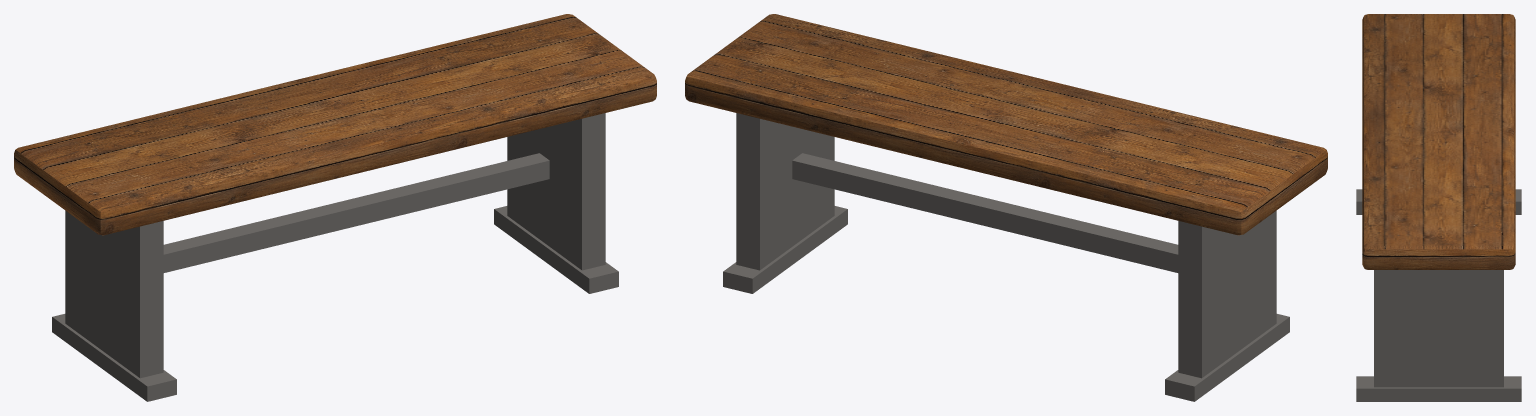
The model's file is bench-v01.glb.
3 views of the same model, side by side, from view 1: azimuth 30°, elevation 25°; view 2: azimuth 150°, elevation 25°; view 3: azimuth 270°, elevation 25° (orthographic). The views are drawn at different scales.
Visible parts, largest first — view 1: bench; view 2: bench; view 3: bench.
Boxes of the visible parts, left/top/right/bottom form: bench: left=14, top=14, right=656, bottom=401; bench: left=685, top=14, right=1327, bottom=401; bench: left=1356, top=14, right=1521, bottom=401.
Bounding box in the file's own units: 1.9 × 0.645 × 0.56.
Materials: 2 (1 with a texture image).
